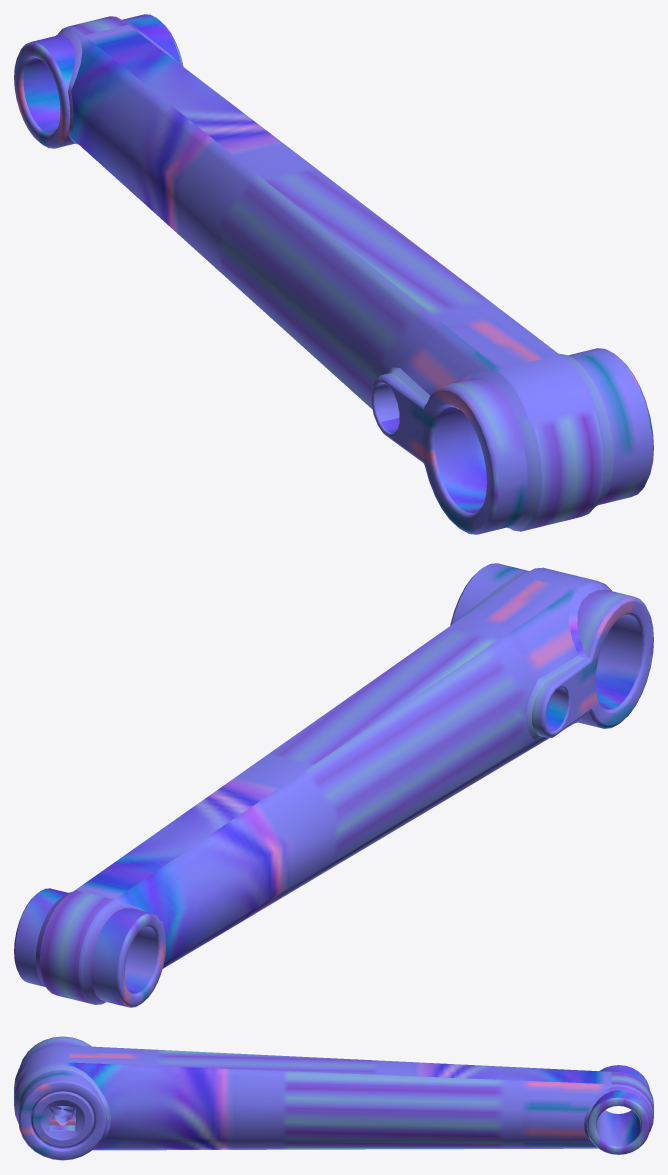
The model's file is BMX_CrankArm_Punch_Big Jump 175mm.fbx.
3 views of the same model, one above another, from view 1: azimuth 30°, elevation 25°; view 2: azimuth 150°, elevation 25°; view 3: azimuth 270°, elevation 25° (orthographic). The views are drawn at different scales.
Parts seen in each view (by area): view 1: BMX_CrankArm_Punch_Big_Jump175mm; view 2: BMX_CrankArm_Punch_Big_Jump175mm; view 3: BMX_CrankArm_Punch_Big_Jump175mm.
Boxes of the visible parts, bbox=[...] form: BMX_CrankArm_Punch_Big_Jump175mm: bbox=[14, 14, 653, 534]; BMX_CrankArm_Punch_Big_Jump175mm: bbox=[14, 563, 653, 1007]; BMX_CrankArm_Punch_Big_Jump175mm: bbox=[14, 1036, 653, 1160].
Bounding box in the file's own units: 3.81 × 3.06 × 20.13.
1 material, 1 textured.
